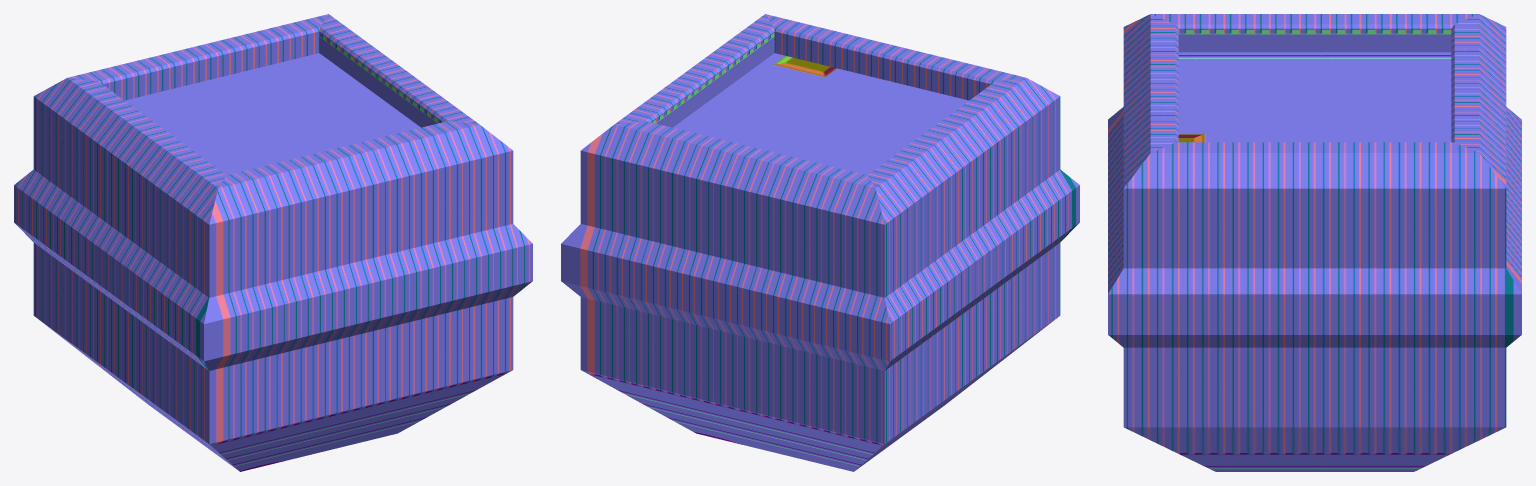
File: Trim test.fbx
3 views of the same model, side by side, from view 1: azimuth 30°, elevation 25°; view 2: azimuth 150°, elevation 25°; view 3: azimuth 270°, elevation 25° (orthographic). The views are drawn at different scales.
Parts seen in each view (by area): view 1: Cube.005; view 2: Cube.005; view 3: Cube.005.
Boxes of the visible parts, x1,y1,x2,y2 form: Cube.005: (14, 14, 532, 471); Cube.005: (561, 14, 1079, 471); Cube.005: (1108, 14, 1521, 471).
Bounding box in the file's own units: 216 × 200 × 216.
